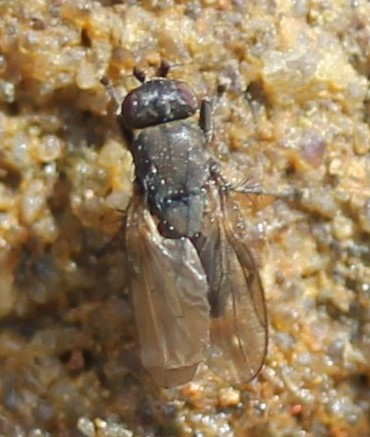Ephydridae: (110, 48, 303, 396)
